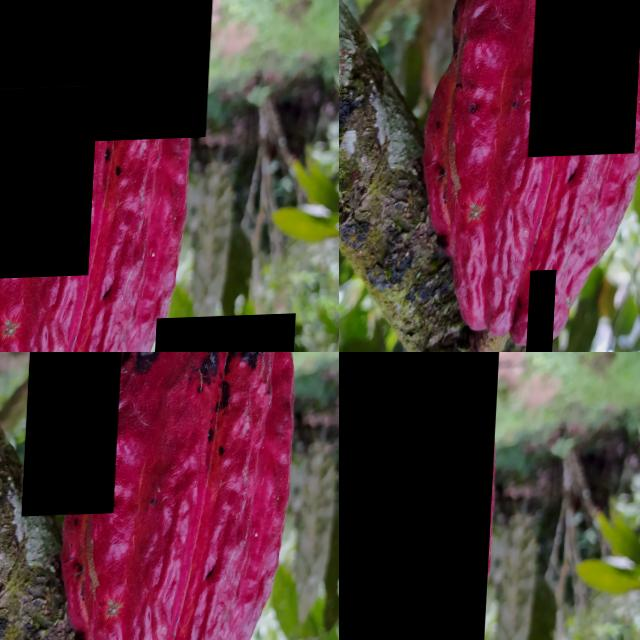Fitoftora: (339, 352, 506, 640), (0, 0, 220, 150), (25, 352, 126, 517), (531, 272, 562, 352)
Sana: (0, 87, 100, 280), (532, 0, 640, 159)
